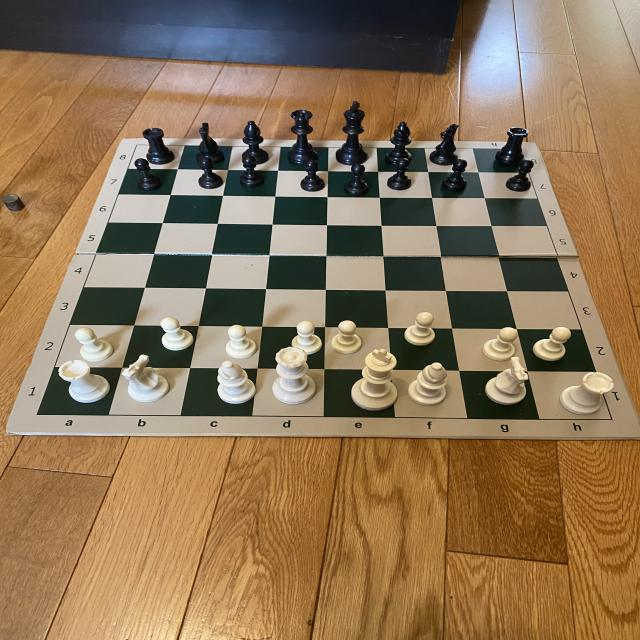Chessboard-Corners: (34, 410, 44, 418), (606, 416, 616, 421), (133, 141, 140, 146)
